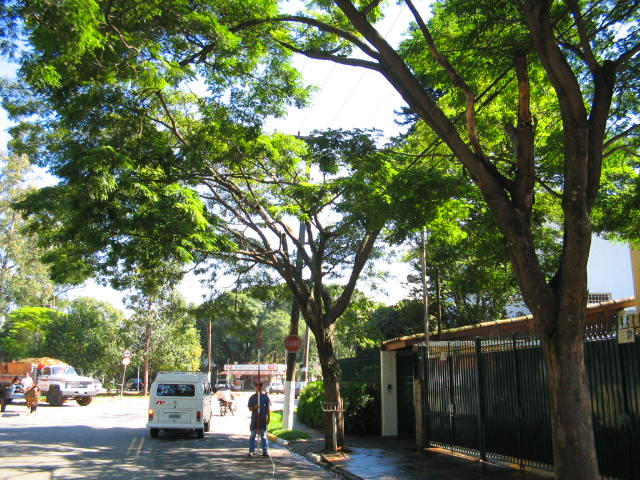crown: (16, 132, 475, 306)
stem: (518, 300, 621, 480), (303, 325, 367, 452)
stick: (249, 327, 268, 457)
tree: (15, 131, 477, 454)
